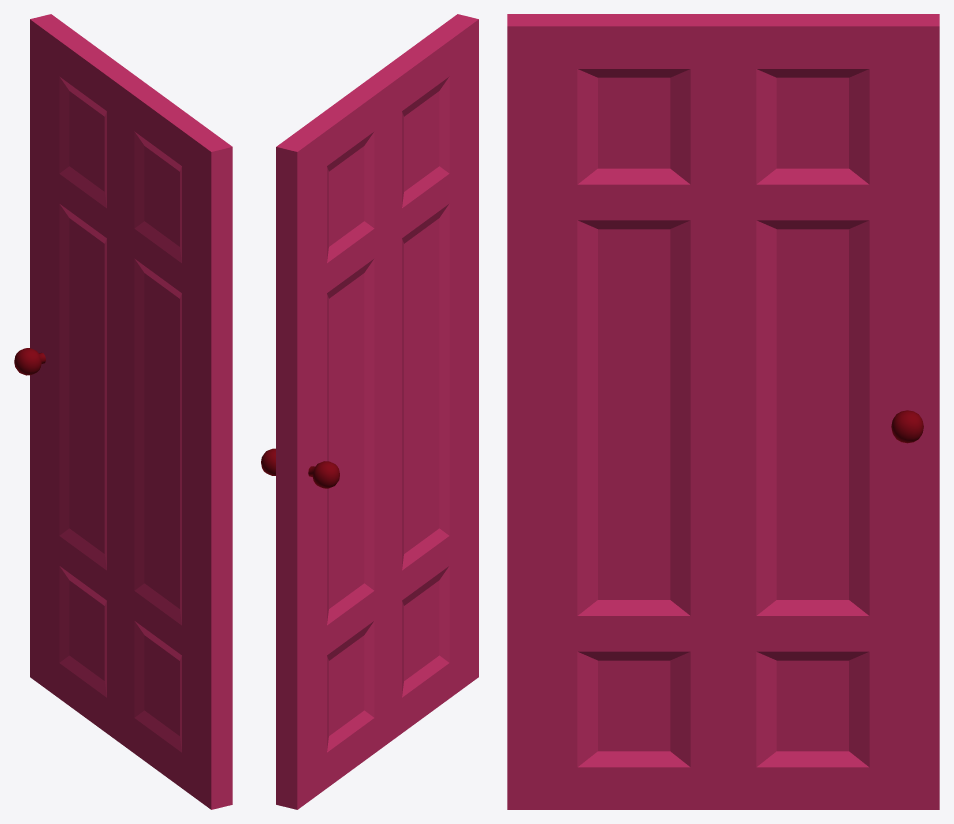
The model's file is Door.fbx.
3 renders of one model, left to right at view 1: azimuth 30°, elevation 25°; view 2: azimuth 150°, elevation 25°; view 3: azimuth 270°, elevation 25°, orthographic. The views are drawn at different scales.
Visible parts, largest first — view 1: Door, Doorknob.004; view 2: Door, Doorknob.004; view 3: Door, Doorknob.
Boxes of the visible parts, bbox=[...] form: Door: bbox=[30, 14, 232, 809]; Doorknob.004: bbox=[14, 348, 45, 375]; Door: bbox=[276, 14, 478, 809]; Doorknob.004: bbox=[308, 461, 339, 488]; Door: bbox=[507, 14, 939, 809]; Doorknob: bbox=[891, 410, 923, 443].
Bounding box in the file's own units: 23.93 × 200 × 100.
